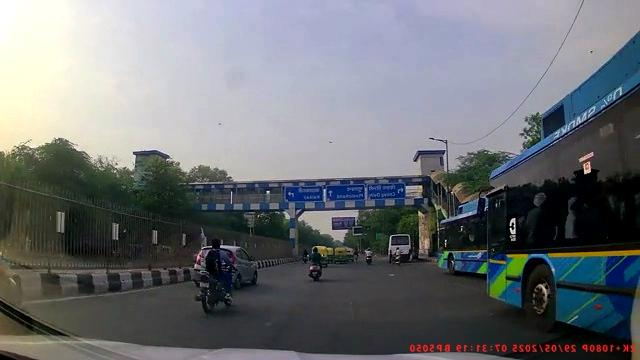motorcycle_without_helmet: (196, 236, 239, 315)
